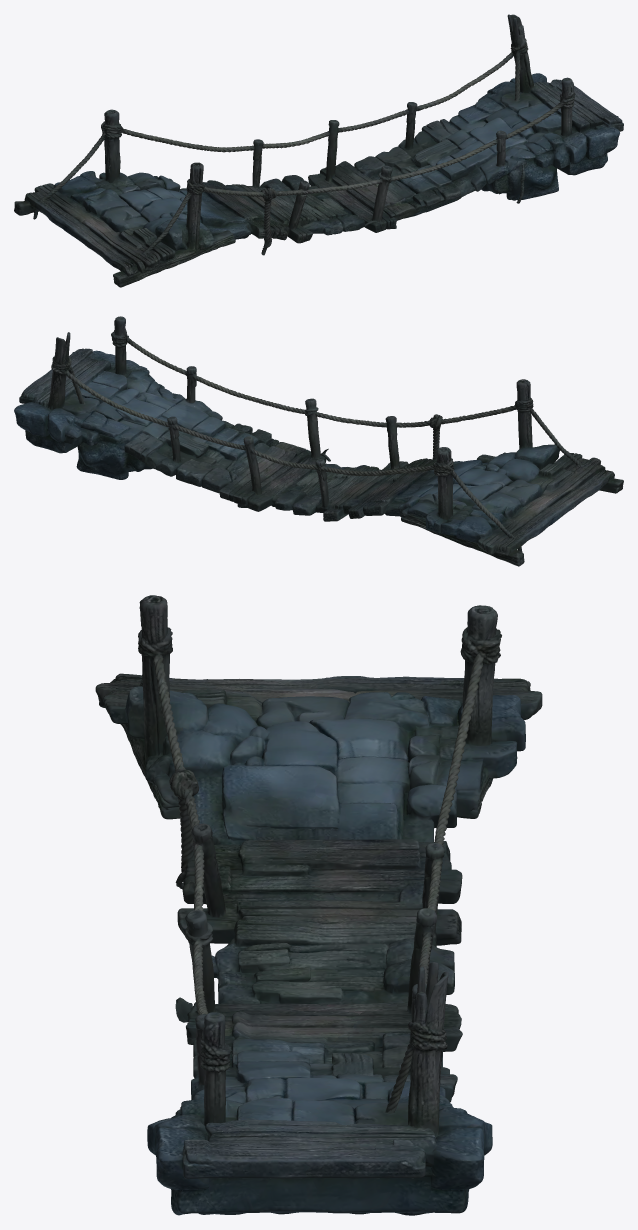
File: bridge.glb
3 views of the same model, one above another, from view 1: azimuth 30°, elevation 25°; view 2: azimuth 150°, elevation 25°; view 3: azimuth 270°, elevation 25° (orthographic). The views are drawn at different scales.
Parts seen in each view (by area): view 1: tripo_node_a2618ebe-9f4f-421c-9377-6460fcdfe923; view 2: tripo_node_a2618ebe-9f4f-421c-9377-6460fcdfe923; view 3: tripo_node_a2618ebe-9f4f-421c-9377-6460fcdfe923.
Part boxes in pixels (x1=…): tripo_node_a2618ebe-9f4f-421c-9377-6460fcdfe923: x1=14, y1=14, x2=623, y2=287; tripo_node_a2618ebe-9f4f-421c-9377-6460fcdfe923: x1=14, y1=316, x2=623, y2=566; tripo_node_a2618ebe-9f4f-421c-9377-6460fcdfe923: x1=95, y1=595, x2=542, y2=1215.
Size of the model in its own units: 0.9793 by 0.2381 by 0.361.
Materials: 1 (1 with a texture image).
